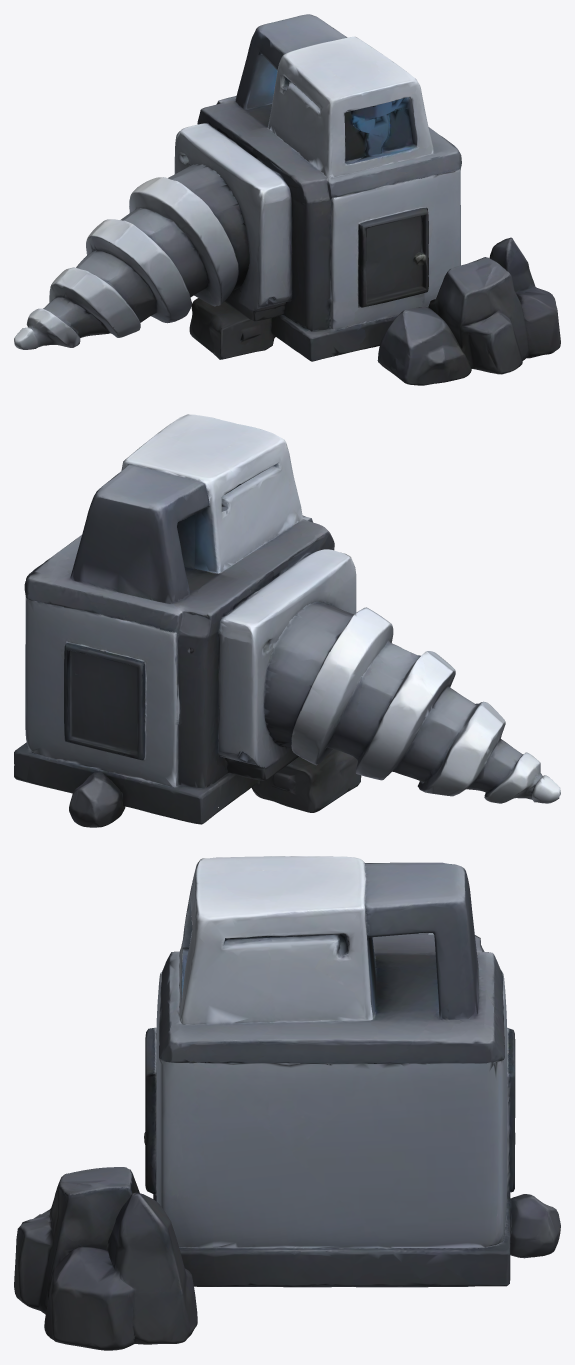
Rendered from 3D-silverdriler.glb.
3 renders of one model, top to bottom at view 1: azimuth 30°, elevation 25°; view 2: azimuth 150°, elevation 25°; view 3: azimuth 270°, elevation 25°, orthographic. The views are drawn at different scales.
Parts seen in each view (by area): view 1: tripo_node_1544ffa5-8c1f-4634-905b-e3705cf29a7e; view 2: tripo_node_1544ffa5-8c1f-4634-905b-e3705cf29a7e; view 3: tripo_node_1544ffa5-8c1f-4634-905b-e3705cf29a7e.
Part boxes in pixels (x1,y1,x2,y2): tripo_node_1544ffa5-8c1f-4634-905b-e3705cf29a7e: [14, 14, 560, 385]; tripo_node_1544ffa5-8c1f-4634-905b-e3705cf29a7e: [14, 414, 560, 827]; tripo_node_1544ffa5-8c1f-4634-905b-e3705cf29a7e: [14, 856, 560, 1350].
Size of the model in its own units: 0.9794 by 0.5249 by 0.6965.
Materials: 1 (1 with a texture image).
